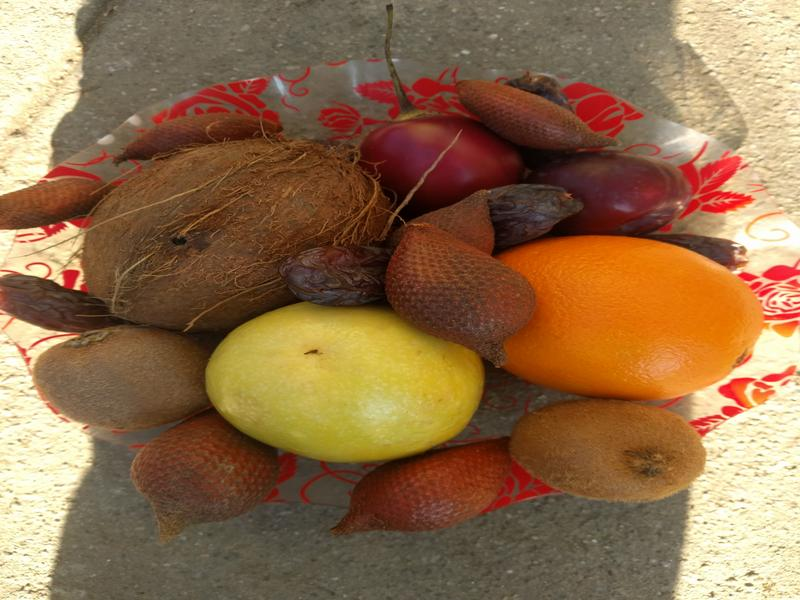orange: (480, 226, 771, 404)
